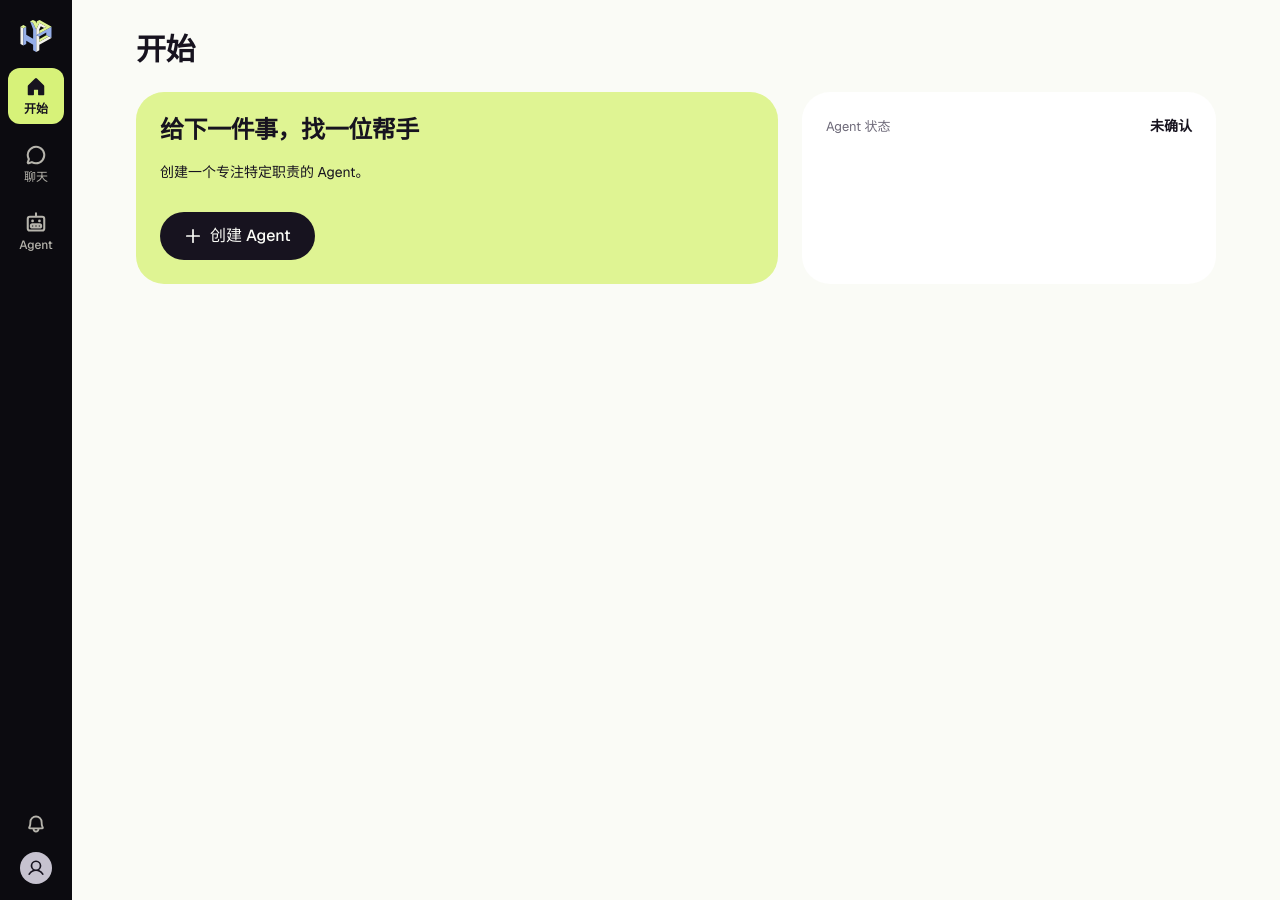
Test: agents directory (read-side wiring) › opens the detail with runtime facts, grants and provider status from the read api
What coordinates should you click on to do the following:
click the button "Agent"
I would click on:
 (36, 232)
Its box is [8, 204, 64, 260].
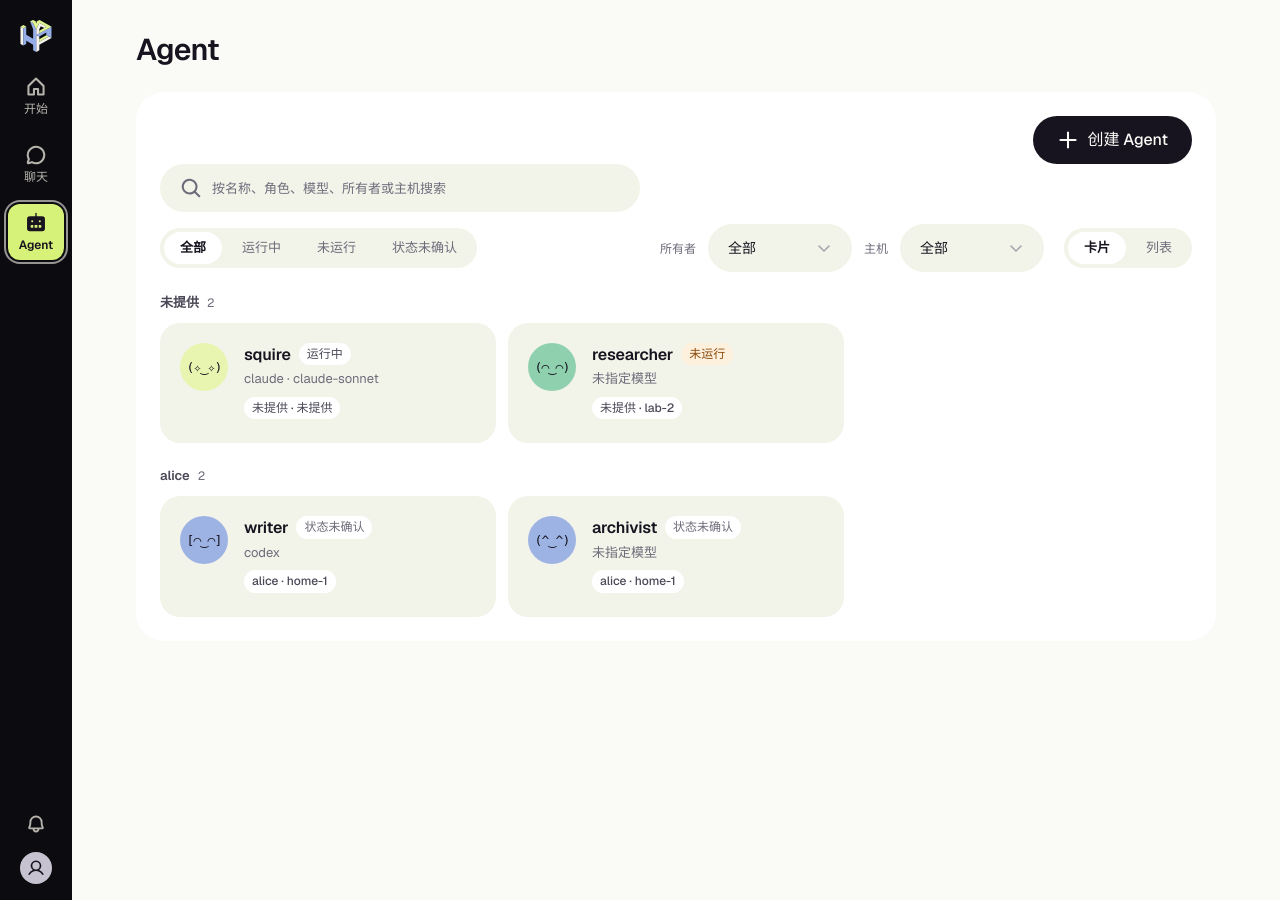
What coordinates should you click on to do the following:
click the button with test id "contact-squire"
I would click on:
 (328, 383)
Its box is [160, 323, 496, 443].
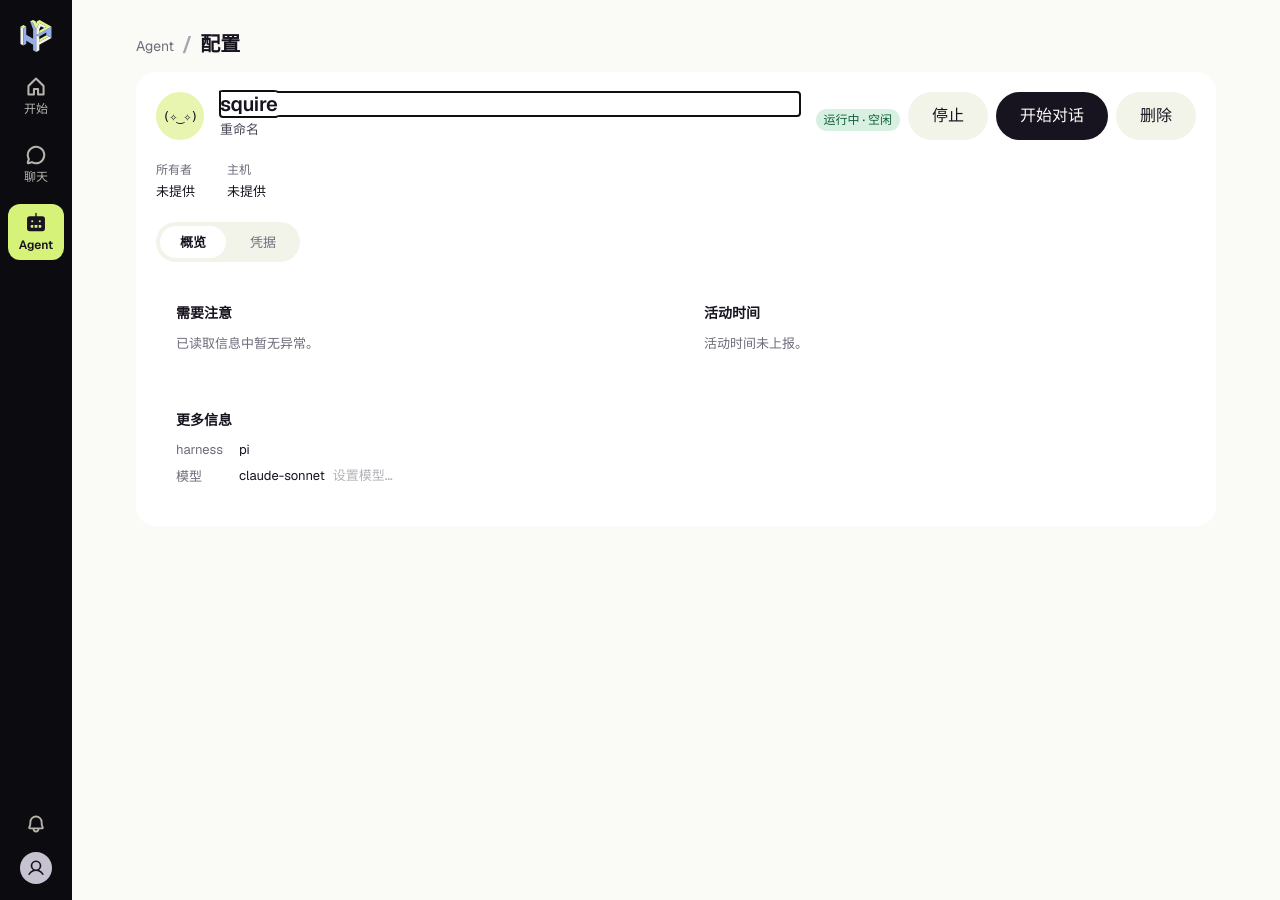
Expected: the element with test id "agent-detail-runstate" shows "空闲", [824, 112, 892, 128]
Expected: the text with test id "overview-harness" reads "pi", [239, 441, 250, 458]
Expected: the element with test id "overview-model" shows "claude-sonnet", [239, 467, 325, 484]
What coordinates should you click on to do the following:
click the tab "凭据"
I would click on:
 (263, 242)
Its box is [230, 226, 296, 258].
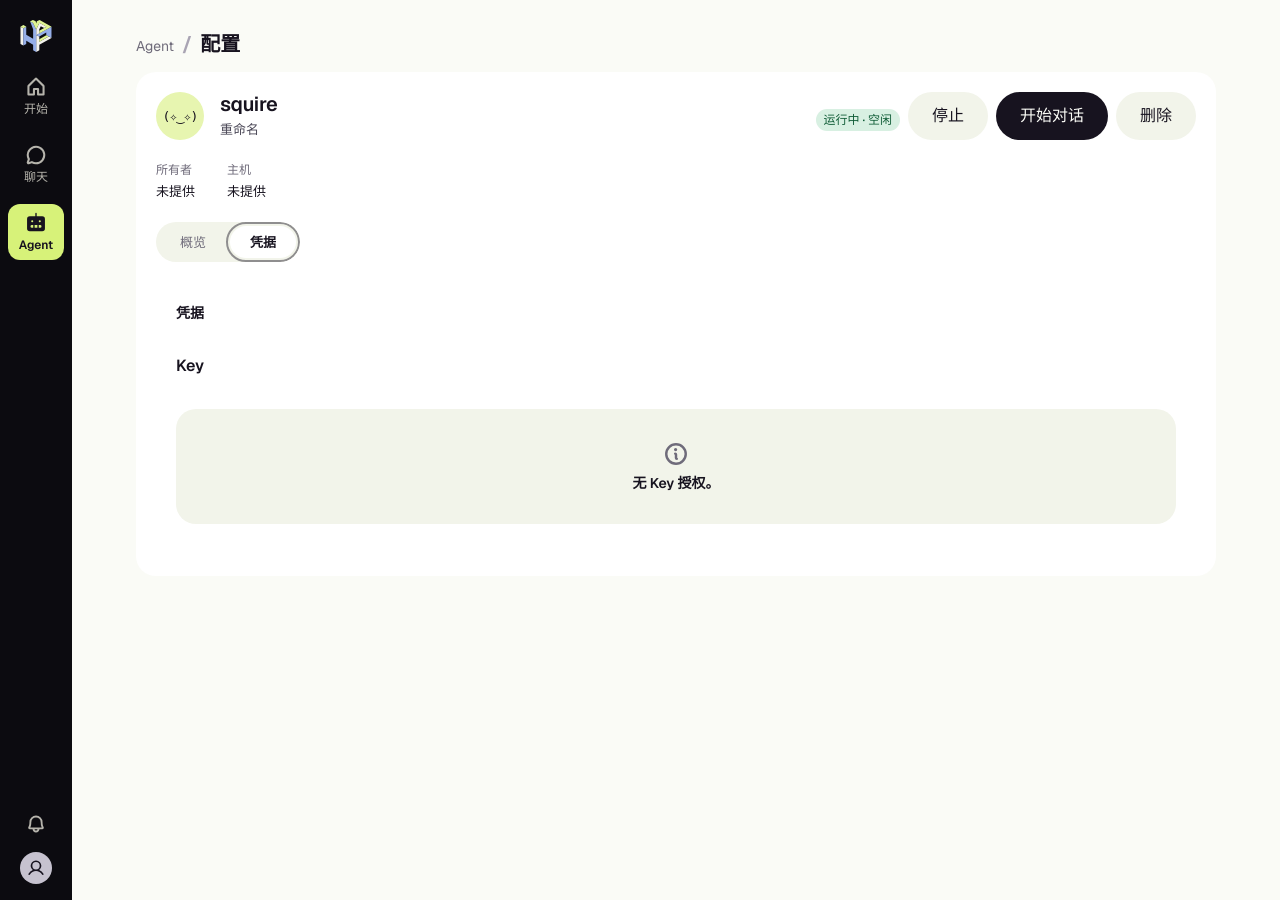
Expected: the text "无 Key 授权。" is shown, [632, 475, 720, 492]
